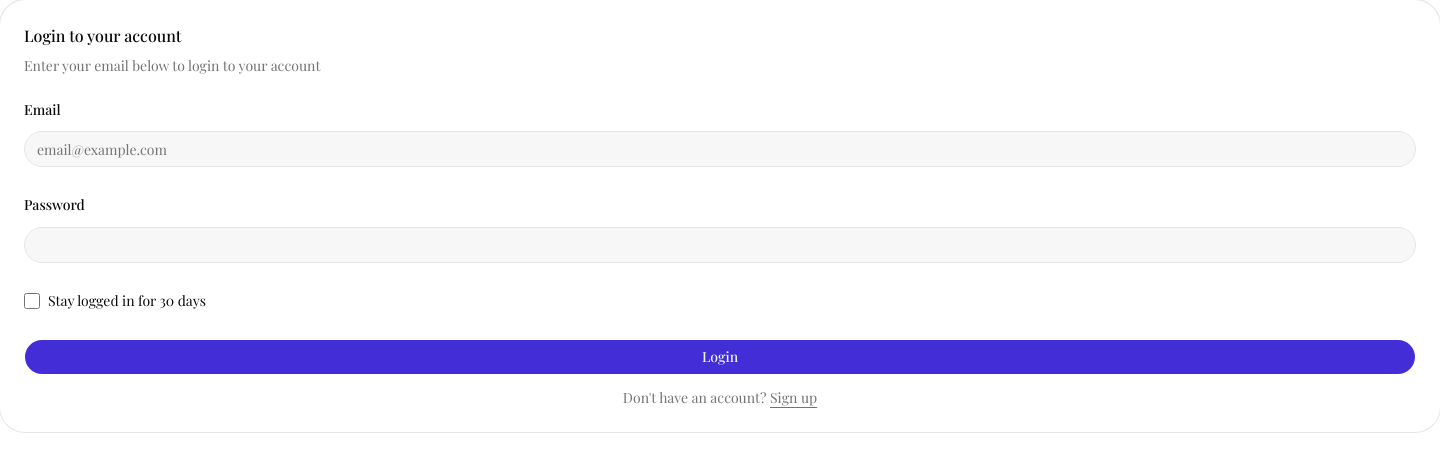
LoginForm › disables the button while submitting
Type "test@example.com" into the field labelled "Email" at (720, 149), box left=24, top=131, right=1416, bottom=167
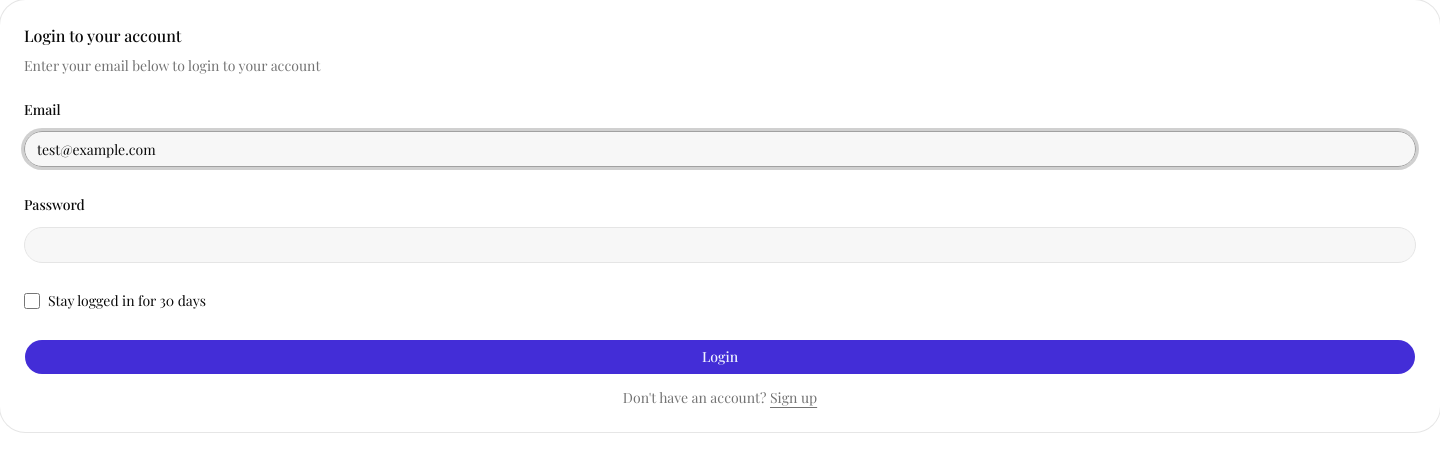
Type "password123" into the password field labelled "Password" at (720, 244), box left=24, top=226, right=1416, bottom=262
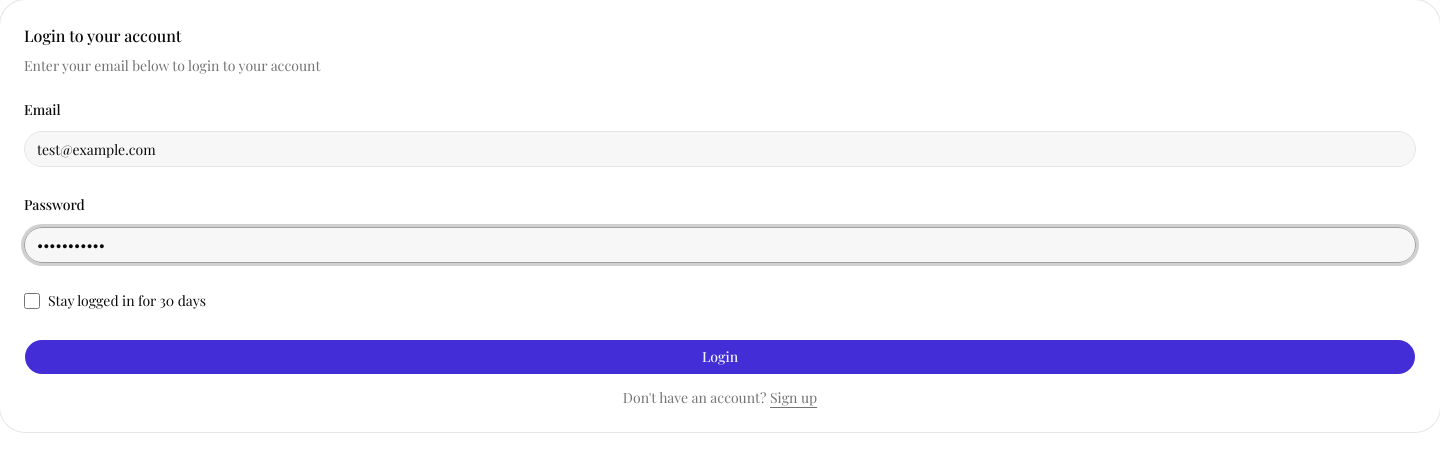
Click the button "Login" at (720, 356), box left=24, top=338, right=1416, bottom=374
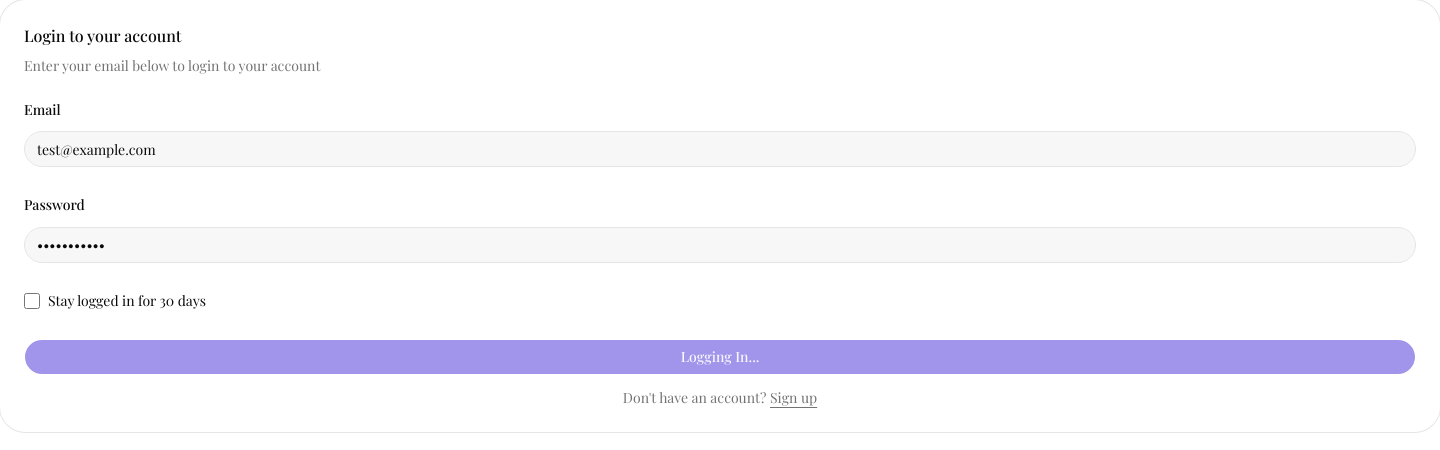
Expected: the button "Logging In..." is disabled, left=24, top=338, right=1416, bottom=374
